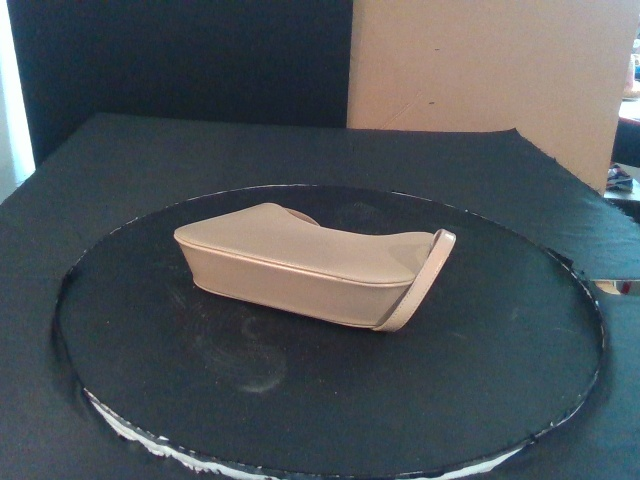bag: (172, 203, 439, 329)
